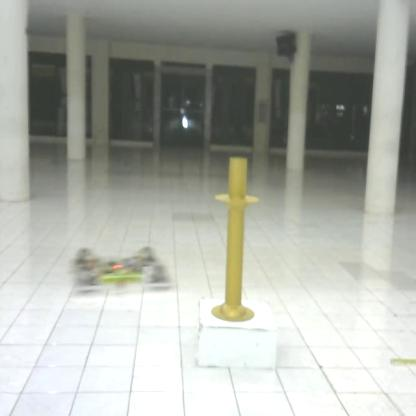pole: (205, 147, 264, 329)
